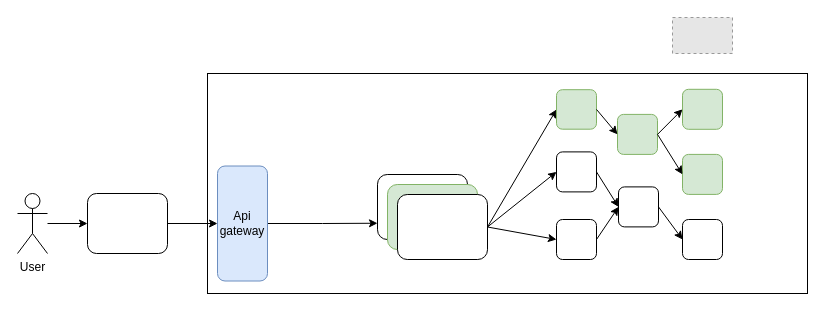
Some shapes in this 825 by 311 pixel diagram are drawn without their labels. Grey dashed boxes stand in for pictures. Here are the shapes that lost their labels. From the top down, the box of each, then its label:
(86, 192, 168, 254): Web or Mobile app
(396, 194, 488, 260): Frontend services
